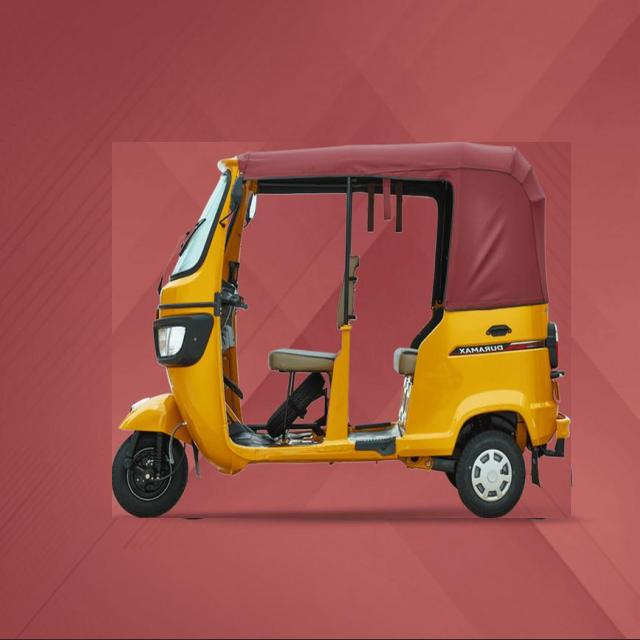autorickshaw: (112, 142, 571, 518)
